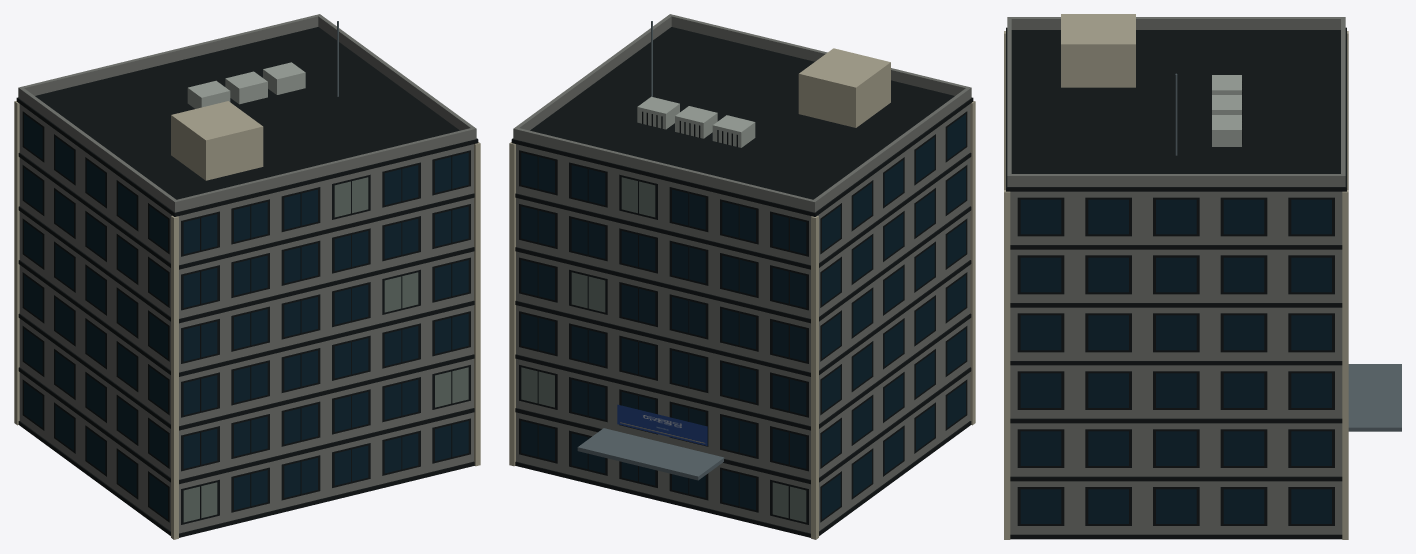
Rendered from office_midrise.obj.
The picture shows the model from 3 angles, left to right: view 1: azimuth 30°, elevation 25°; view 2: azimuth 150°, elevation 25°; view 3: azimuth 270°, elevation 25°; orthographic projection. The views are drawn at different scales.
Parts seen in each view (by area): view 1: Concrete, Dark_Frame, Window_Glass, Warm_Plaster, Window_Light, AC_White; view 2: Concrete, Dark_Frame, Window_Glass, Warm_Plaster, Window_Light, Metal_Silver, AC_White, Sign_Atlas; view 3: Dark_Frame, Concrete, Window_Glass, Warm_Plaster, Metal_Silver, AC_White.
Part boxes in pixels (<box>): Concrete: <box>18,14,476,533</box>; Dark_Frame: <box>16,27,478,537</box>; Window_Glass: <box>24,114,468,519</box>; Warm_Plaster: <box>14,101,480,539</box>; Window_Light: <box>183,177,468,522</box>; AC_White: <box>187,62,305,108</box>; Concrete: <box>513,14,971,533</box>; Dark_Frame: <box>511,27,973,537</box>; Window_Glass: <box>521,114,965,519</box>; Warm_Plaster: <box>509,48,975,539</box>; Window_Light: <box>521,177,806,522</box>; Metal_Silver: <box>577,21,724,480</box>; AC_White: <box>637,96,755,147</box>; Sign_Atlas: <box>617,404,707,445</box>; Dark_Frame: <box>1006,27,1346,539</box>; Concrete: <box>1007,17,1345,534</box>; Window_Glass: <box>1020,199,1331,523</box>; Warm_Plaster: <box>1004,14,1348,539</box>; Metal_Silver: <box>1175,73,1401,431</box>; AC_White: <box>1212,75,1241,146</box>.
Size of the model in its own units: 20.33 by 25.4 by 21.16.
